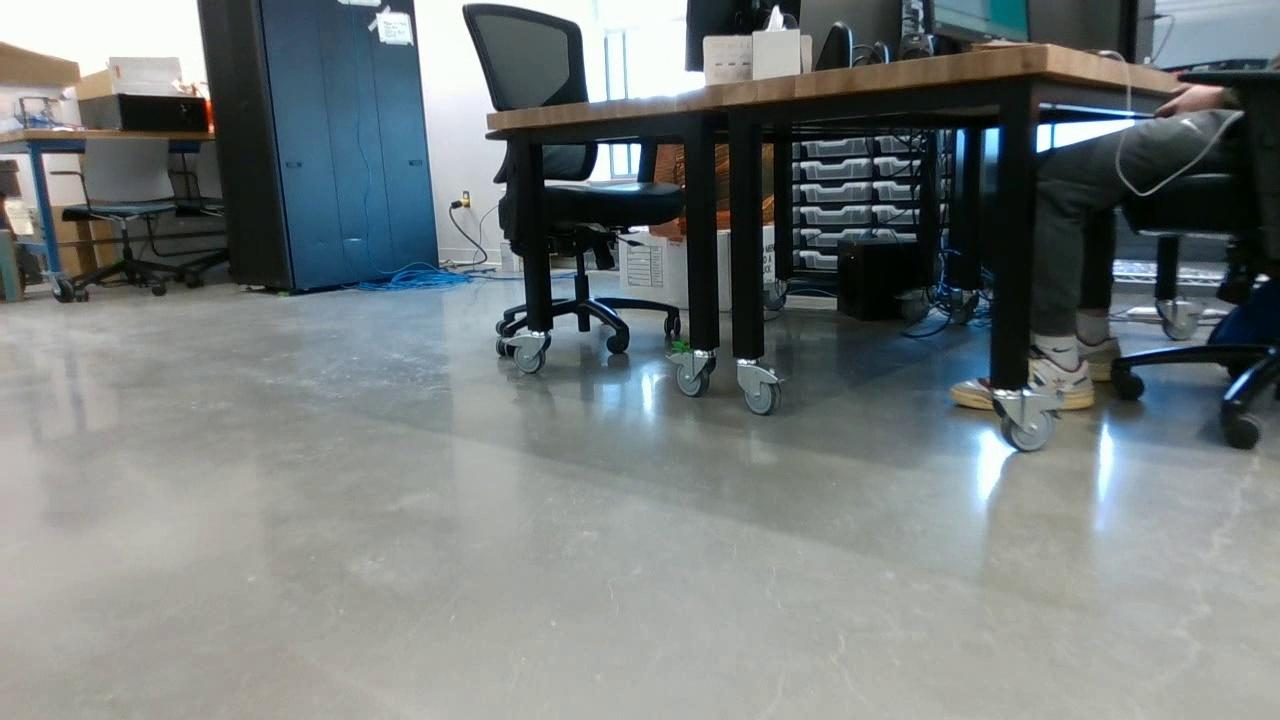grasshopper: (667, 337, 696, 360)
